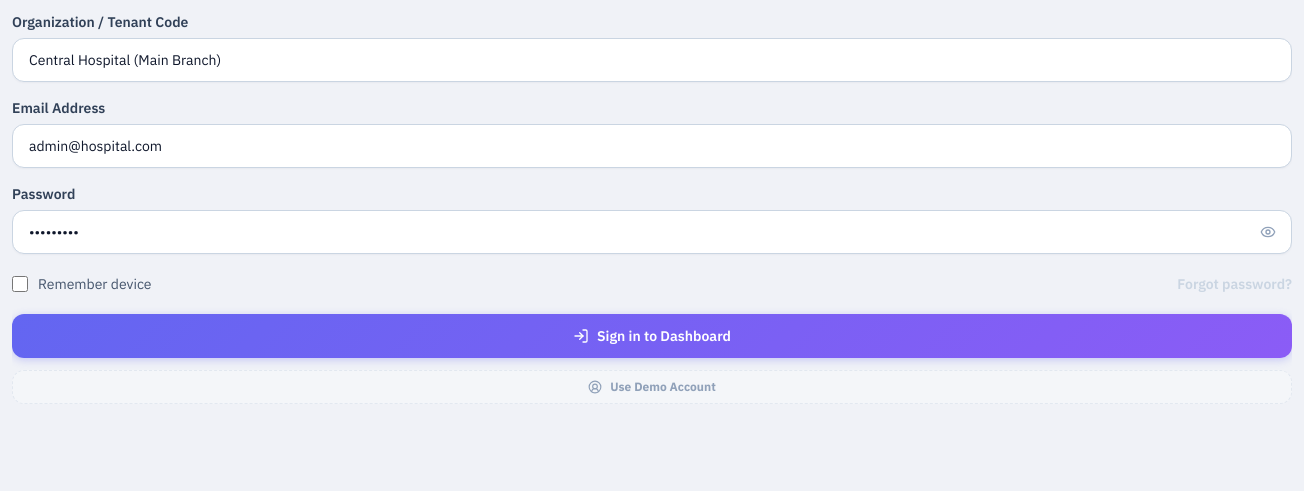
Test: LoginForm › Form Submission › shows generic error message when no specific message is returned
The width and height of the screenshot is (1304, 491).
Click the button "Sign in to Dashboard": click(652, 336) x1=12 y1=314 x2=1292 y2=358
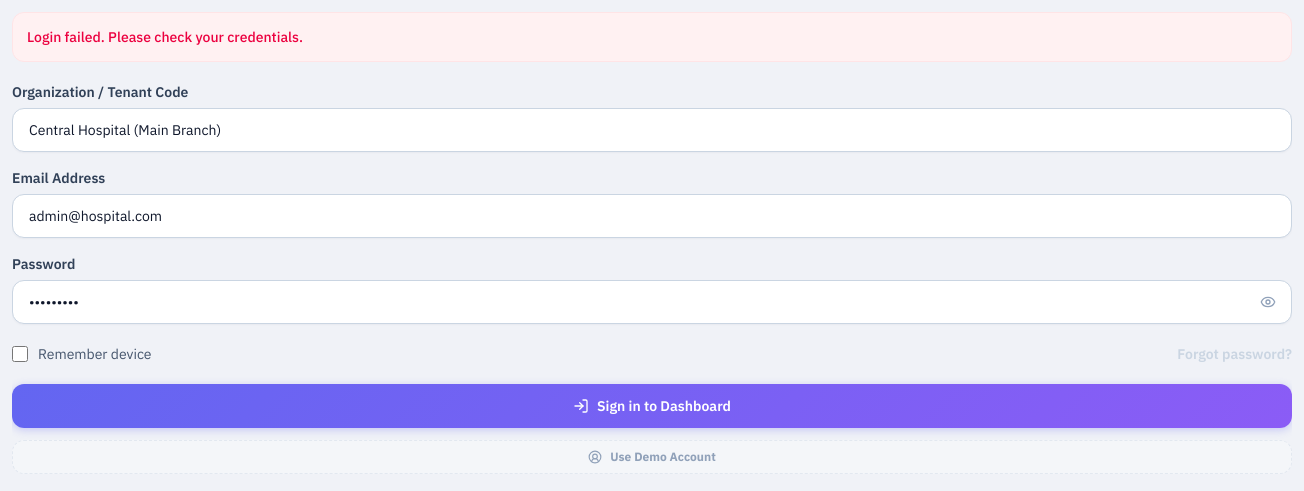
Expected: the text "Login failed. Please check your credentials." is shown, x1=12 y1=12 x2=1292 y2=62
